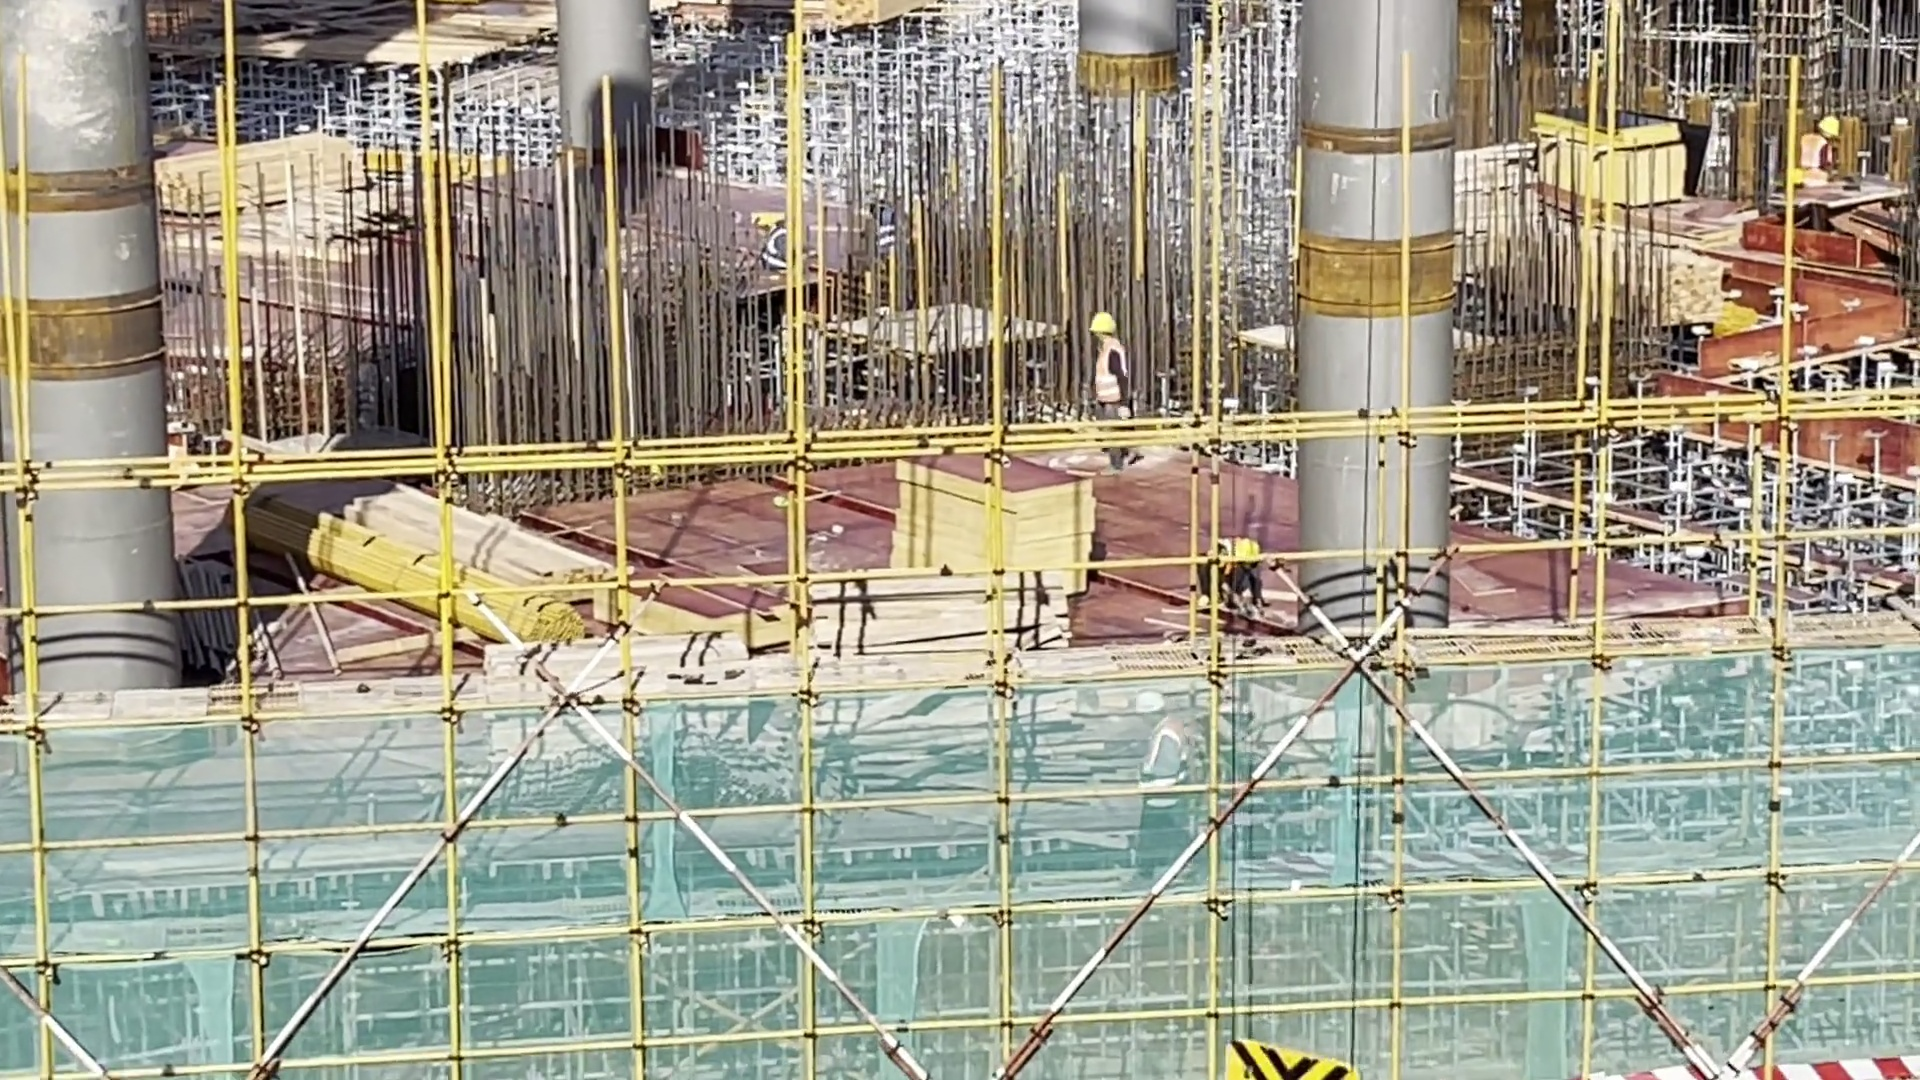helmet: (1090, 310, 1119, 333), (1819, 113, 1838, 136)
person: (1079, 303, 1136, 473), (1208, 530, 1263, 615), (1797, 107, 1841, 173)
vest: (1095, 343, 1127, 405), (1798, 132, 1828, 170)
